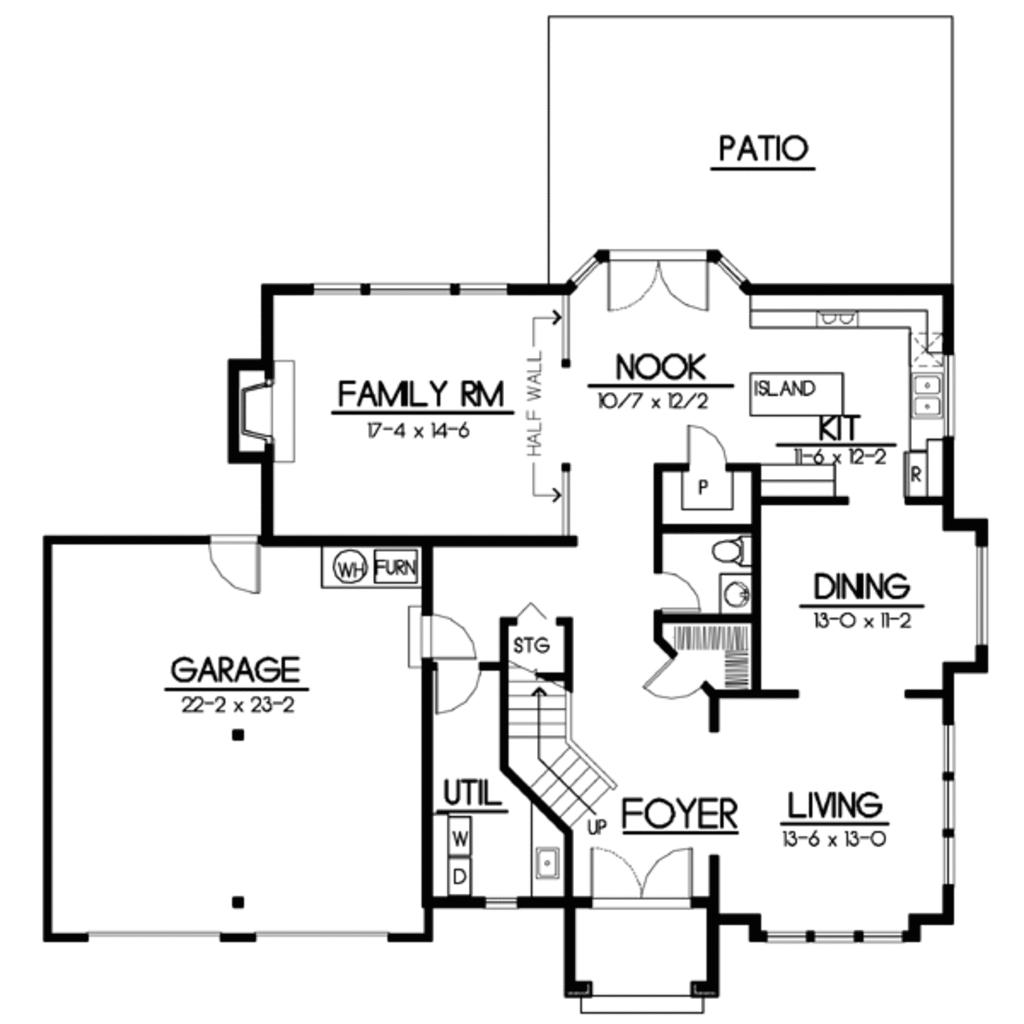door: (605, 243, 722, 320), (586, 842, 693, 907), (402, 595, 488, 660), (641, 635, 716, 708), (407, 658, 485, 721), (202, 528, 267, 603), (671, 420, 737, 475), (648, 563, 704, 614)
kitchen_bar: (744, 285, 946, 360)
large_sink: (709, 534, 765, 571)
sink: (528, 834, 568, 886)
small_sink: (723, 578, 766, 620)
stairs: (496, 634, 631, 837)
twin_sink: (906, 368, 955, 428)
window: (308, 279, 514, 303), (937, 717, 964, 888), (758, 925, 908, 948), (967, 537, 998, 645), (479, 894, 524, 914)
